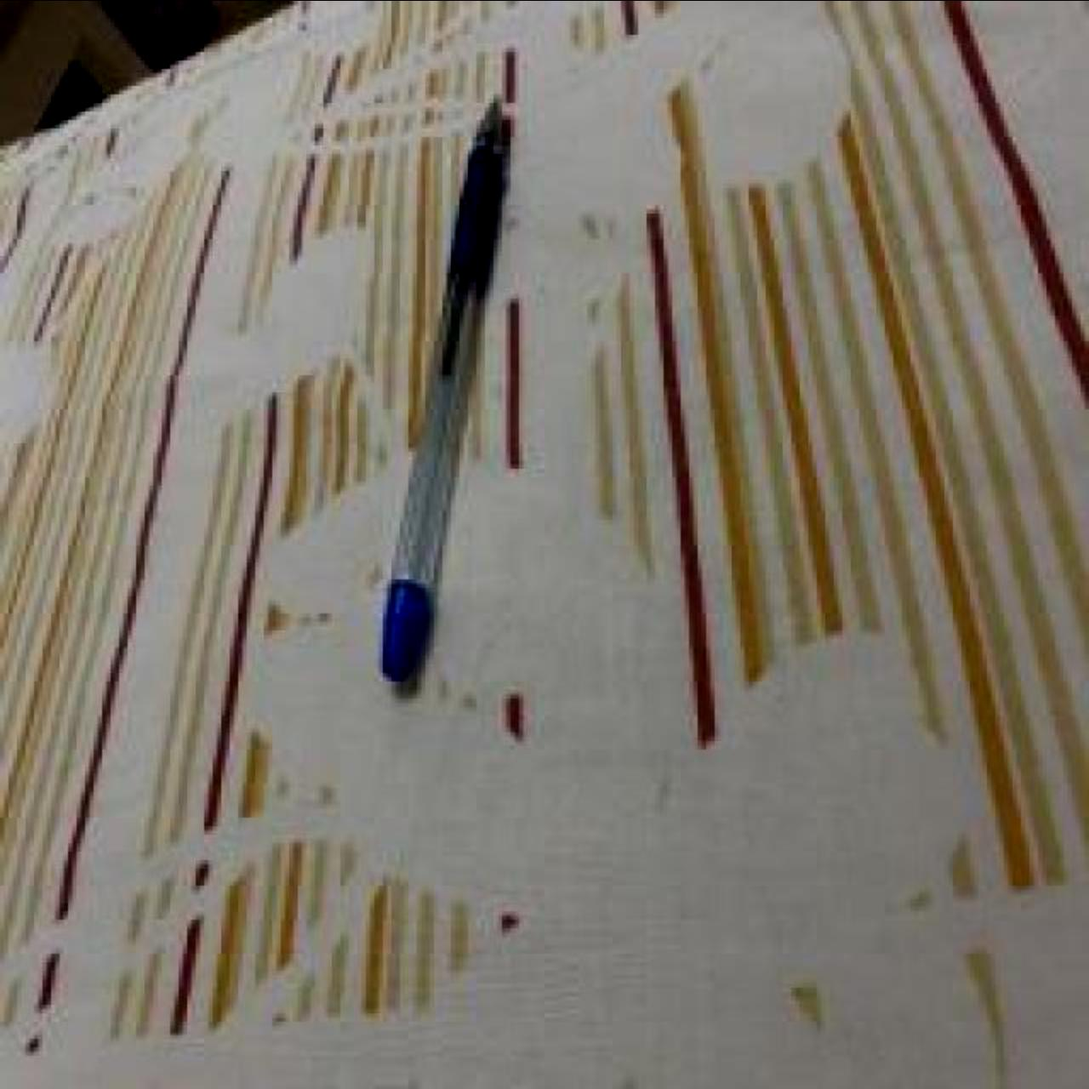pen: (371, 85, 516, 681)
